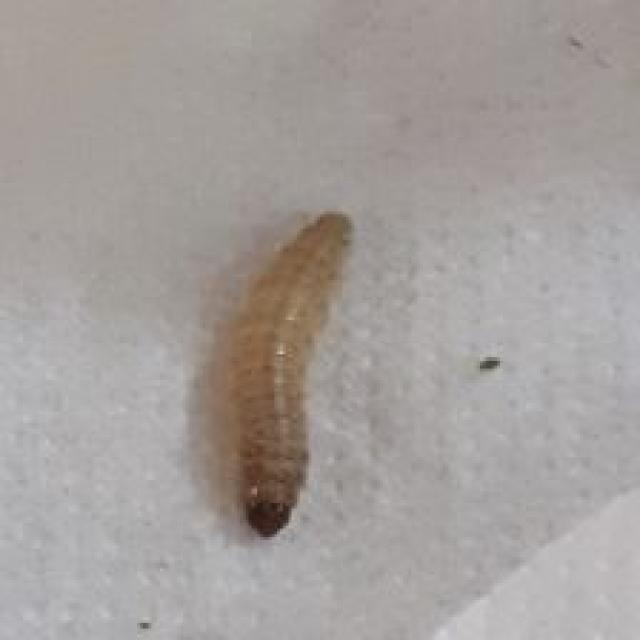white mucus: (169, 157, 406, 557)
